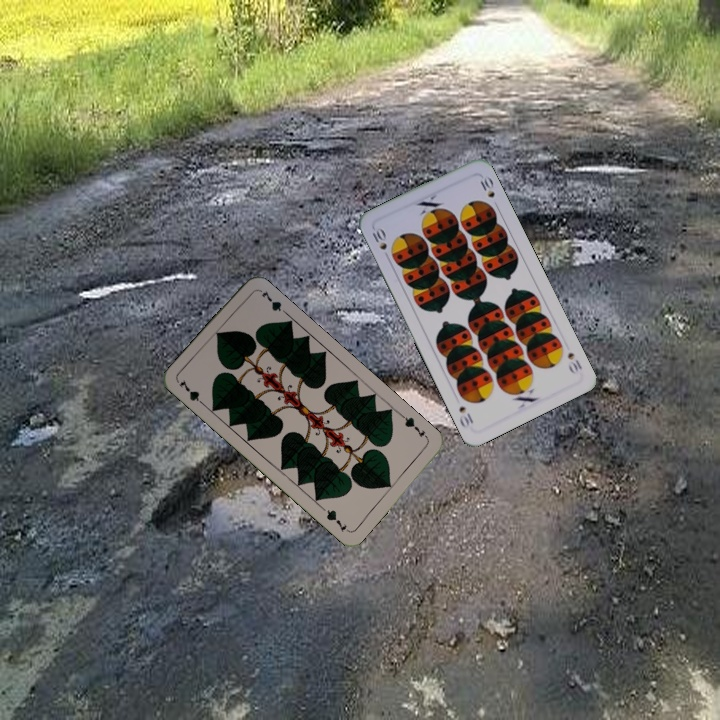G7: (175, 375, 208, 409), (398, 411, 431, 442)
S10: (368, 224, 392, 262), (563, 348, 585, 377)
